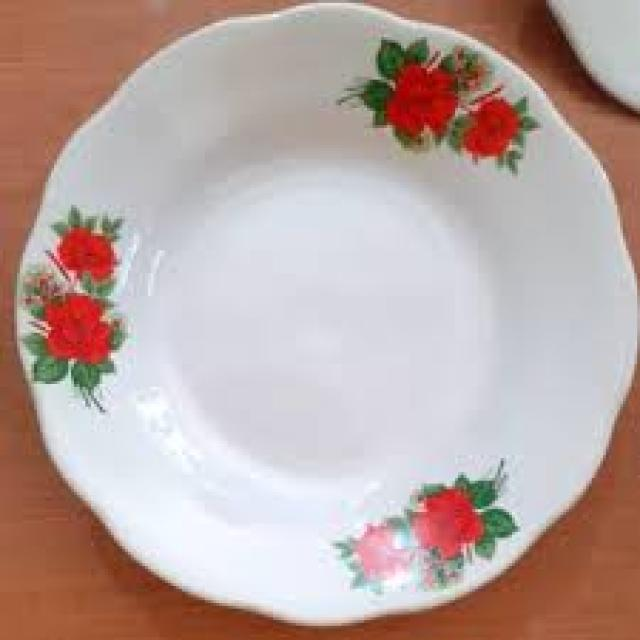Plate: (0, 2, 640, 633)
